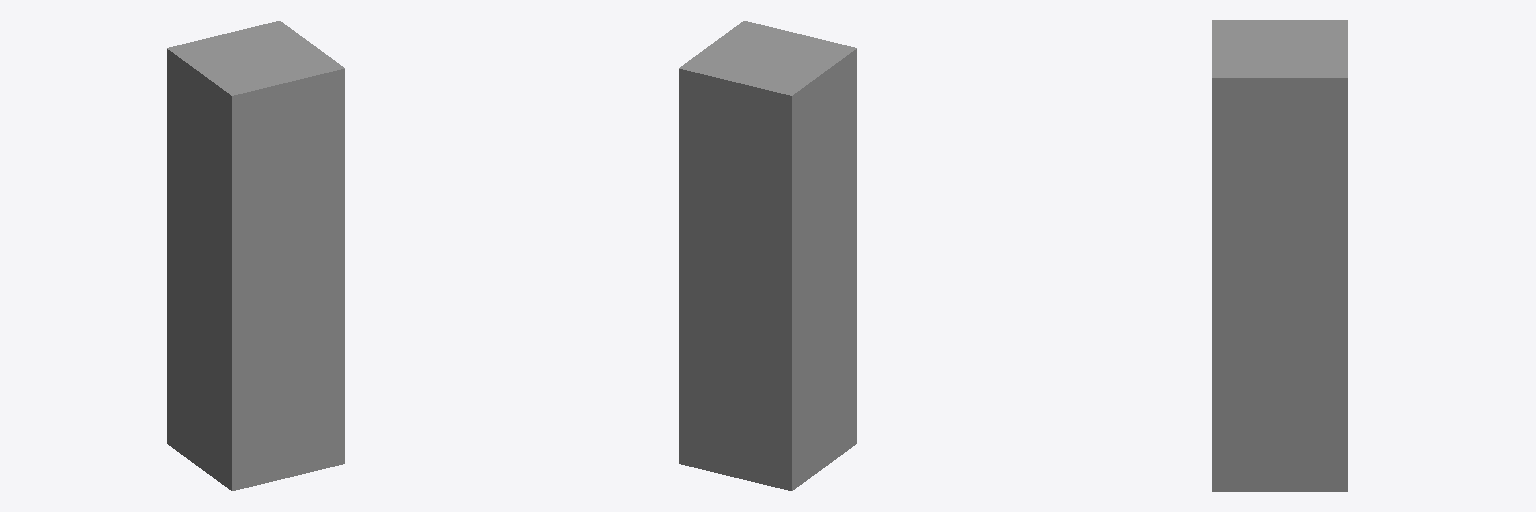
The robot description file, URDF, robot "cylinder":
<?xml version="1.0"?>
<robot name="cylinder">

  <material name="red">
    <color rgba="1.0 0.0 0.0 1.0"/>
  </material>
  <material name="grey">
    <color rgba="0.65 0.65 0.65 1.0"/>
    <texture filename="Wall_Albedo.jpg"/>
  </material>

  <link name="base_link">
    <inertial>
      <mass value="0.0002"/>
    	<inertia ixx="0.00016668" ixy="0.0" ixz="0.0" iyy="0.00016668" iyz="0.0" izz="0.00000002"/>
  	</inertial>
    <visual>
      <geometry>
        <box size="1.2 1.2 4.0"/>
      </geometry>
      <material name="grey"/>
    </visual>
  </link>

</robot>

--- What the picture shows (computed from the rendered views, not written in the file) ---
The picture shows the robot from 3 angles, left to right: view 1: azimuth 30°, elevation 25°; view 2: azimuth 150°, elevation 25°; view 3: azimuth 270°, elevation 25°; orthographic projection.
Model cylinder with 1 links and 0 joints (none), rooted at base_link, posed every joint at zero.
Links seen in each view (by area): view 1: base_link; view 2: base_link; view 3: base_link.
Link boxes in pixels (x1,y1,x2,y2): base_link: (167,21,344,490); base_link: (679,21,856,490); base_link: (1212,20,1347,491).
Size in the robot's own frame: 1.2 by 1.2 by 4 metres.
Geometry: primitives only (box / cylinder / sphere), no mesh files.